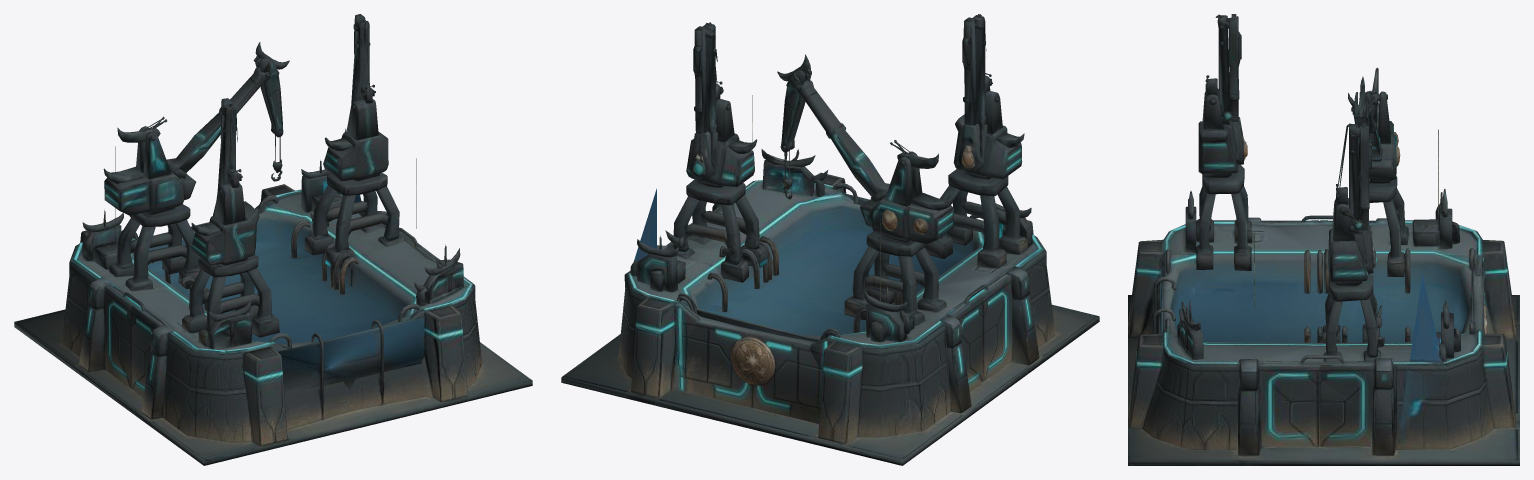
File: mvd_naval_yard.glb
3 renders of one model, left to right at view 1: azimuth 30°, elevation 25°; view 2: azimuth 150°, elevation 25°; view 3: azimuth 270°, elevation 25°, orthographic. The views are drawn at different scales.
Parts seen in each view (by area): view 1: Body, Trim; view 2: Body, Trim; view 3: Body, Trim.
Part boxes in pixels (bbox=[...]): Body: bbox=[14, 14, 532, 465]; Trim: bbox=[75, 125, 473, 386]; Body: bbox=[561, 14, 1099, 465]; Trim: bbox=[627, 153, 1042, 391]; Body: bbox=[1128, 14, 1519, 465]; Trim: bbox=[1164, 113, 1484, 413].
Bounding box in the file's own units: 14.48 × 13.12 × 14.48.
2 materials, 2 textured.
